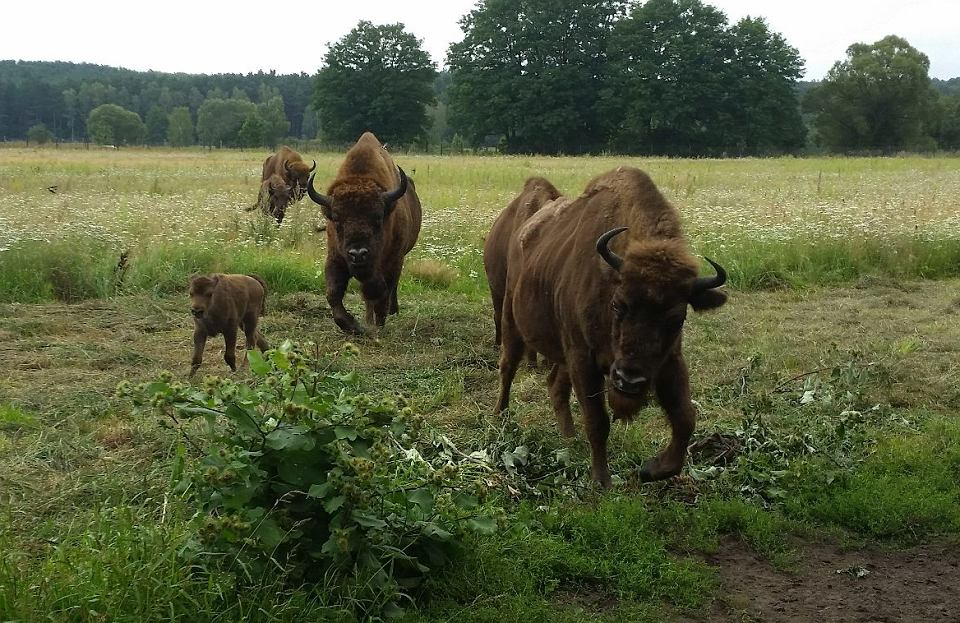zubr: (437, 180, 773, 469), (291, 114, 460, 328), (157, 251, 312, 371), (223, 131, 327, 240)
